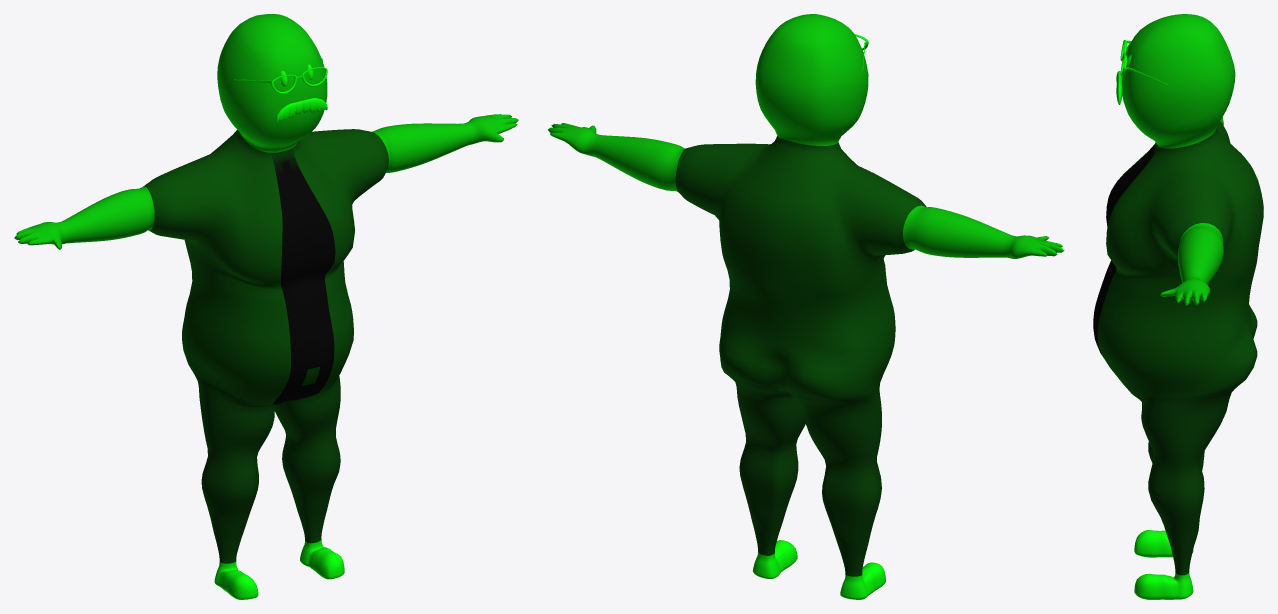
File: Smooth_Dad.fbx
The picture shows the model from 3 angles, left to right: view 1: azimuth 30°, elevation 25°; view 2: azimuth 150°, elevation 25°; view 3: azimuth 270°, elevation 25°; orthographic projection. The views are drawn at different scales.
Visible parts, largest first — view 1: pSphere11; view 2: pSphere11; view 3: pSphere11.
Part boxes in pixels (x1,y1,x2,y2): pSphere11: (14, 14, 518, 599); pSphere11: (548, 14, 1064, 599); pSphere11: (1093, 14, 1263, 599).
Bounding box in the file's own units: 11.19 × 11.86 × 3.29.
